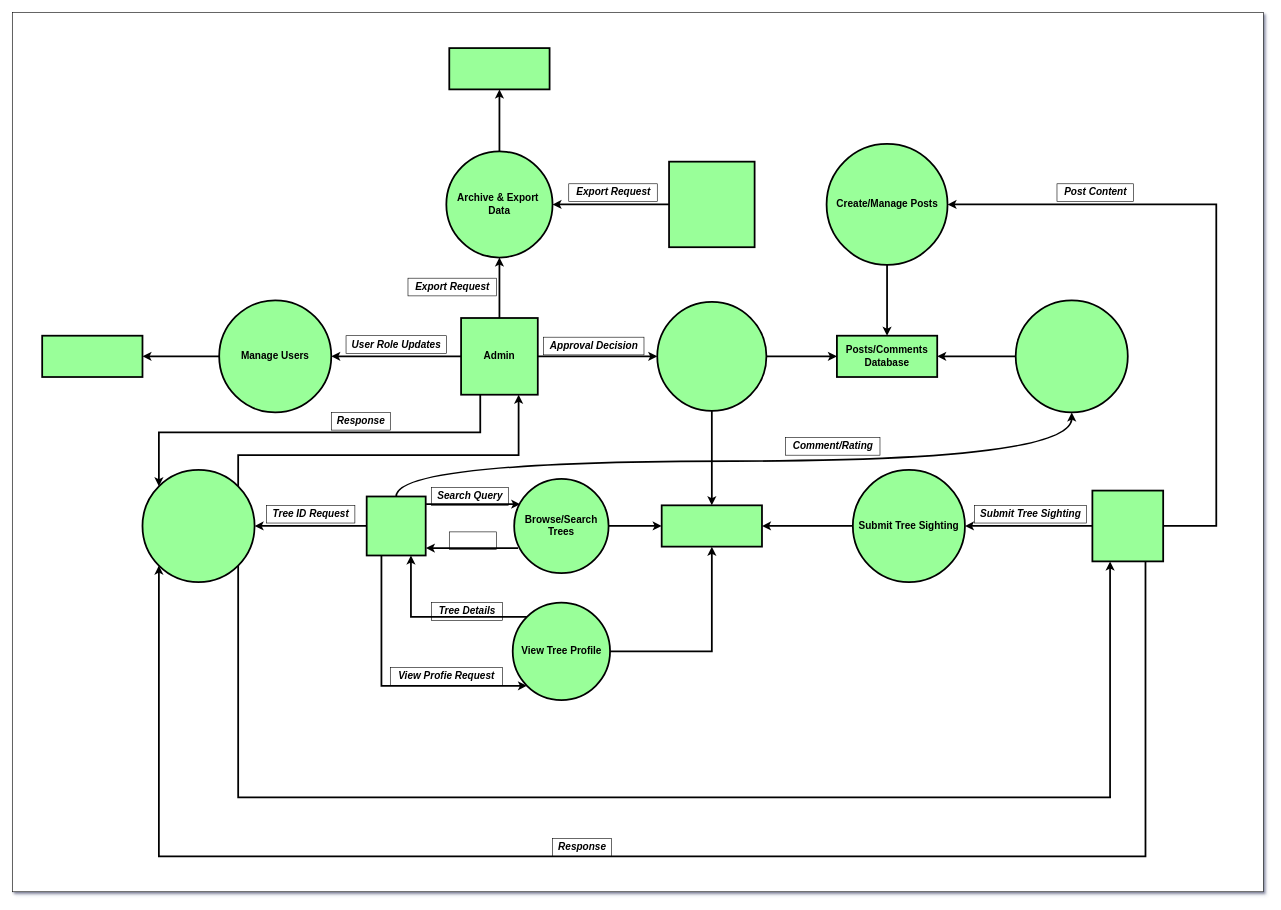
The diagram is 1281 pixels wide and 910 high, and some of its shapes have lost their labels. Here are the shapes that lost their labels. From the top down, the centre of each, then its label:
At (x=499, y=68): "Archive/Export Store".
At (x=711, y=204): "External Researcher/ Organization".
At (x=92, y=356): "User Database".
At (x=711, y=356): "Content Approval".
At (x=1071, y=356): "Comment/ Rate/ Bookmark".
At (x=198, y=526): "Request Tree Identification".
At (x=396, y=525): "Viewer".
At (x=472, y=540): "Results".
At (x=712, y=525): "Tree Database".
At (x=1127, y=525): "Contributor".
